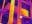Hotspot: (8, 0, 15, 23), (20, 8, 29, 17)
